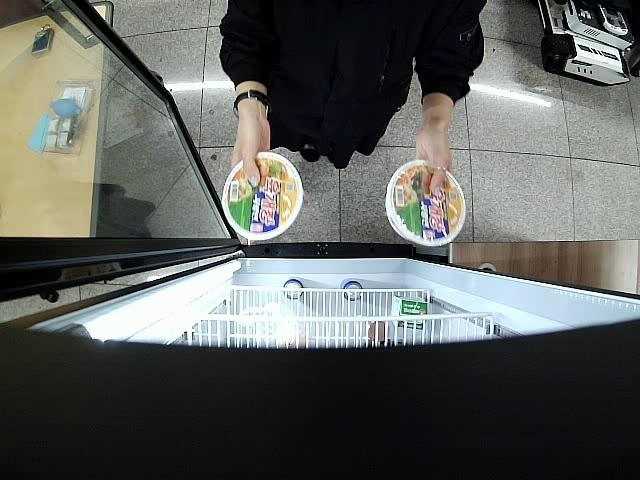09_yukGaeJang: (222, 150, 306, 243), (384, 158, 466, 249)
